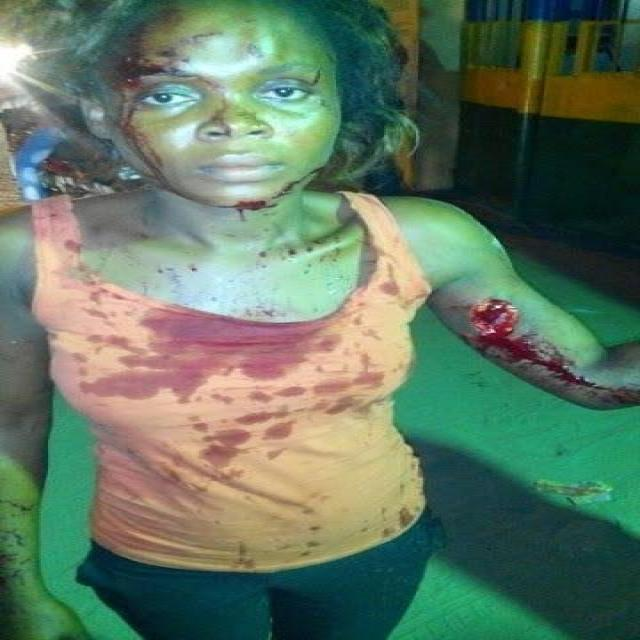flood: (76, 14, 332, 214), (116, 262, 344, 434), (444, 279, 634, 396)
